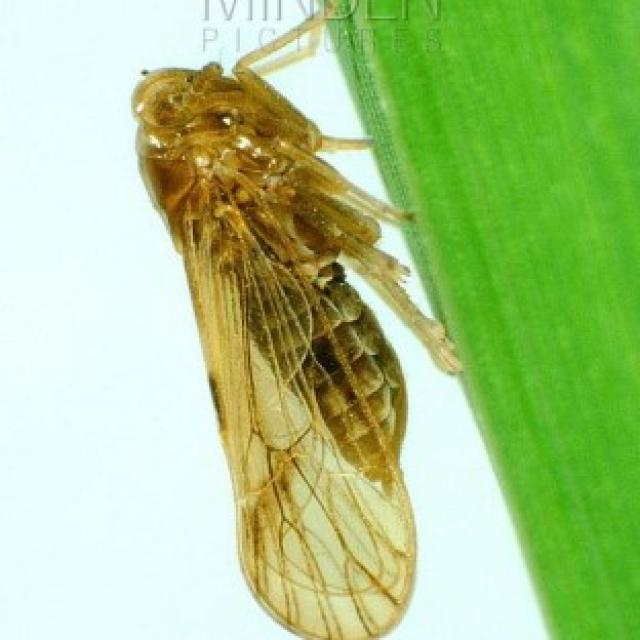brown plant hopper: (131, 4, 457, 638)
